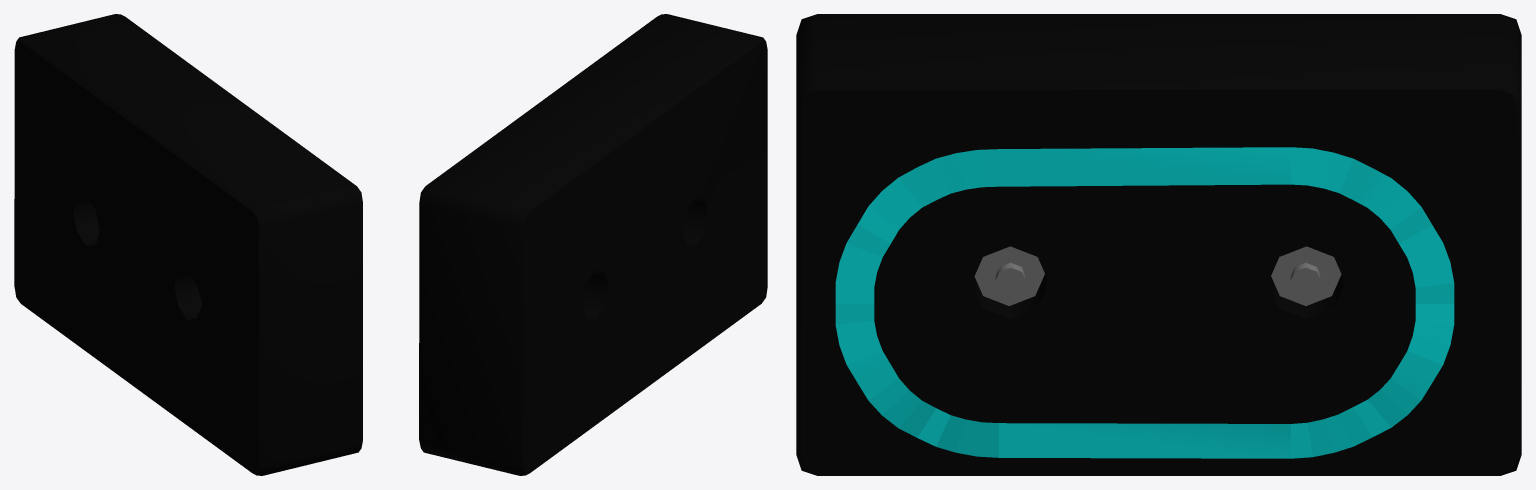
Rendered from led.gltf.
The picture shows the model from 3 angles, left to right: view 1: azimuth 30°, elevation 25°; view 2: azimuth 150°, elevation 25°; view 3: azimuth 270°, elevation 25°; orthographic projection. The views are drawn at different scales.
Parts seen in each view (by area): view 1: front_hit_sensor; view 2: front_hit_sensor; view 3: front_hit_sensor, front_led.
Boxes of the visible parts, <box> form: front_hit_sensor: <box>14,14,362,475</box>; front_hit_sensor: <box>419,14,767,475</box>; front_hit_sensor: <box>796,14,1521,475</box>; front_led: <box>835,147,1454,458</box>.
Size of the model in its own units: 0.0193 by 0.0357 by 0.0598.
